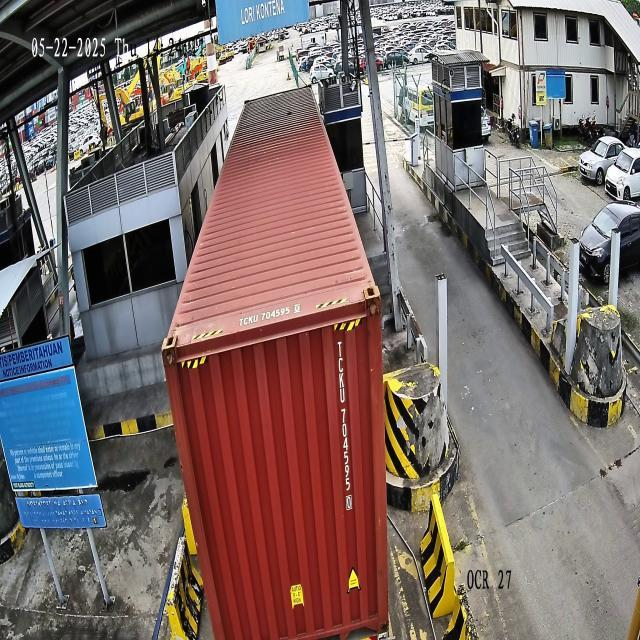container_number: (335, 336, 353, 512)
